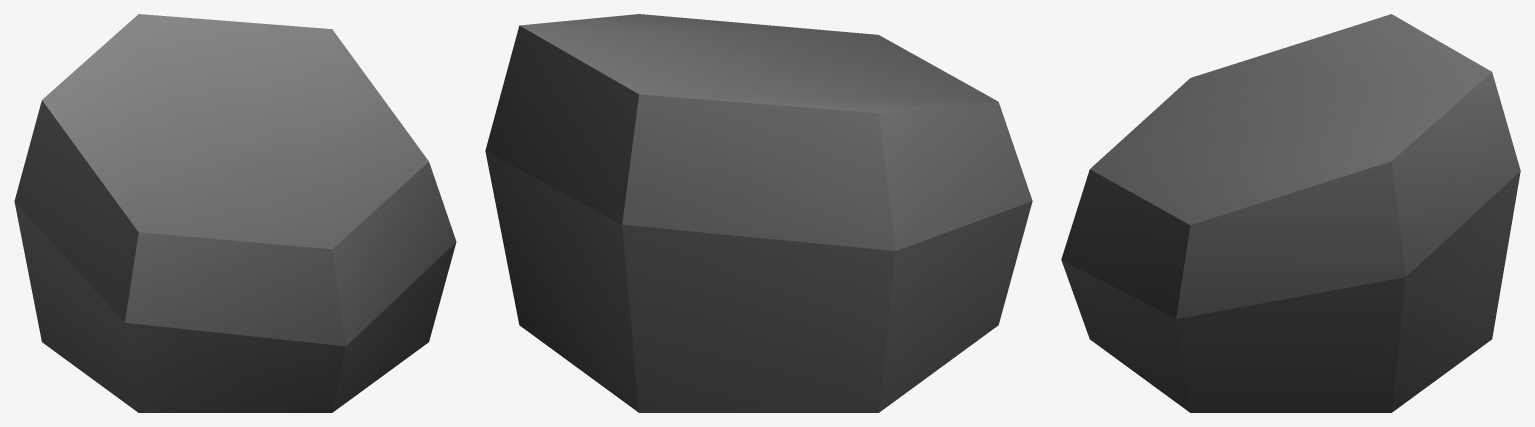
Rendered from Pedra1.fbx.
3 views of the same model, side by side, from view 1: azimuth 30°, elevation 25°; view 2: azimuth 150°, elevation 25°; view 3: azimuth 270°, elevation 25° (orthographic). The views are drawn at different scales.
Parts seen in each view (by area): view 1: Pedra1; view 2: Pedra1; view 3: Pedra1.
Part boxes in pixels (x1,y1,x2,y2): Pedra1: [14, 14, 456, 412]; Pedra1: [485, 14, 1032, 412]; Pedra1: [1061, 14, 1520, 412].
Size of the model in its own units: 47.47 by 35.2 by 54.81.
